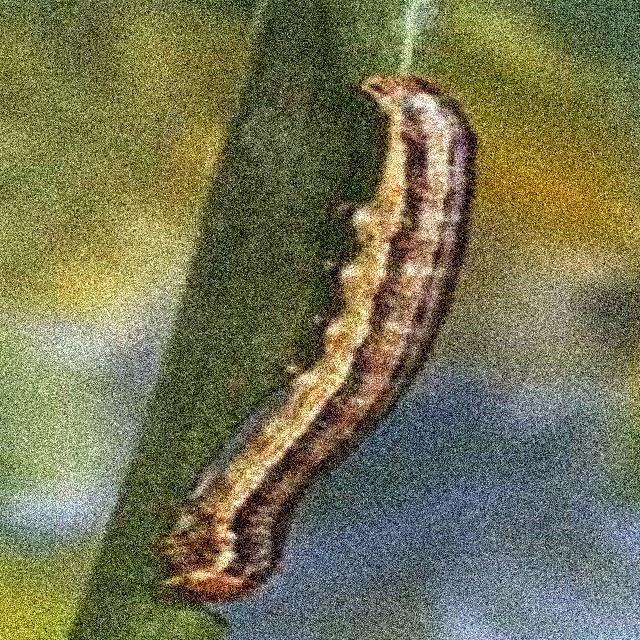Plaga: (155, 72, 483, 600)
